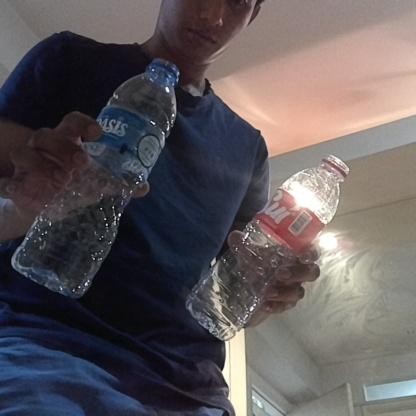plastic_bottles: (22, 56, 184, 286), (188, 150, 356, 342)
